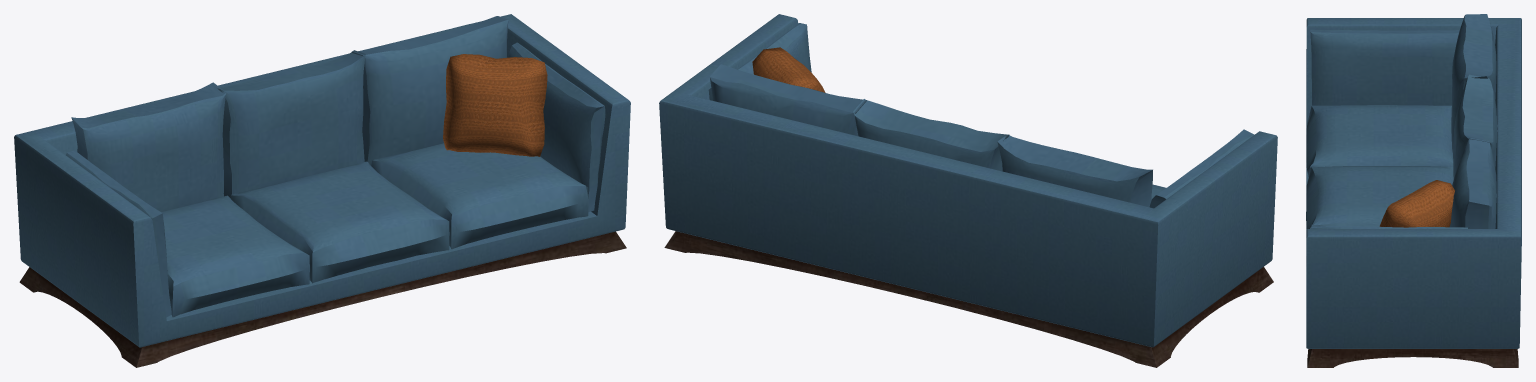
The picture shows the model from 3 angles, left to right: view 1: azimuth 30°, elevation 25°; view 2: azimuth 150°, elevation 25°; view 3: azimuth 270°, elevation 25°; orthographic projection. The views are drawn at different scales.
Visible parts, largest first — view 1: couch5k_1, orange_throw_0; view 2: couch5k_1, orange_throw_0; view 3: couch5k_1, orange_throw_0.
Part boxes in pixels (x1,y1,x2,y2): couch5k_1: (14, 14, 630, 367); orange_throw_0: (443, 54, 547, 156); couch5k_1: (659, 14, 1277, 367); orange_throw_0: (752, 47, 825, 92); couch5k_1: (1306, 14, 1521, 367); orange_throw_0: (1379, 180, 1454, 227).
Size of the model in its own units: 2.16 by 0.7073 by 0.8993.
3 materials, 3 textured.
